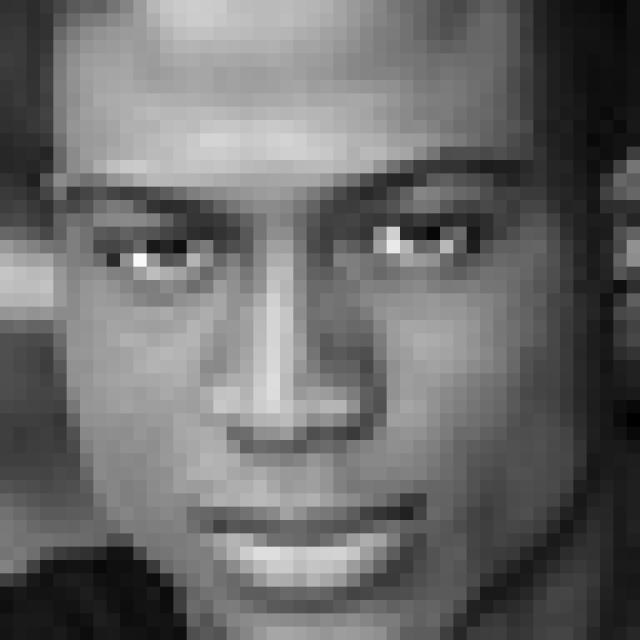neutral: (56, 141, 541, 614)
